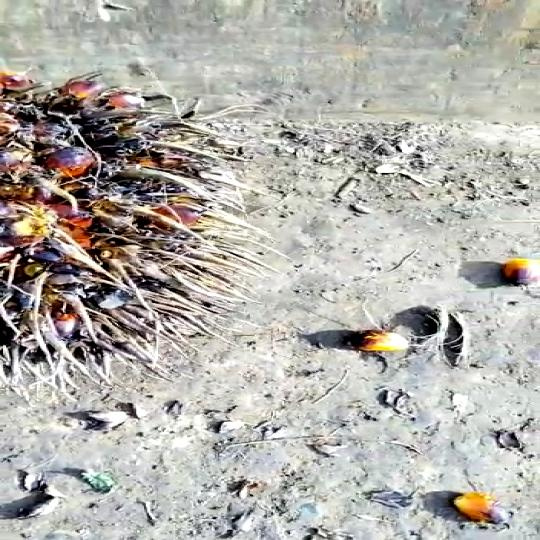terlalu masak: (0, 70, 272, 402)
